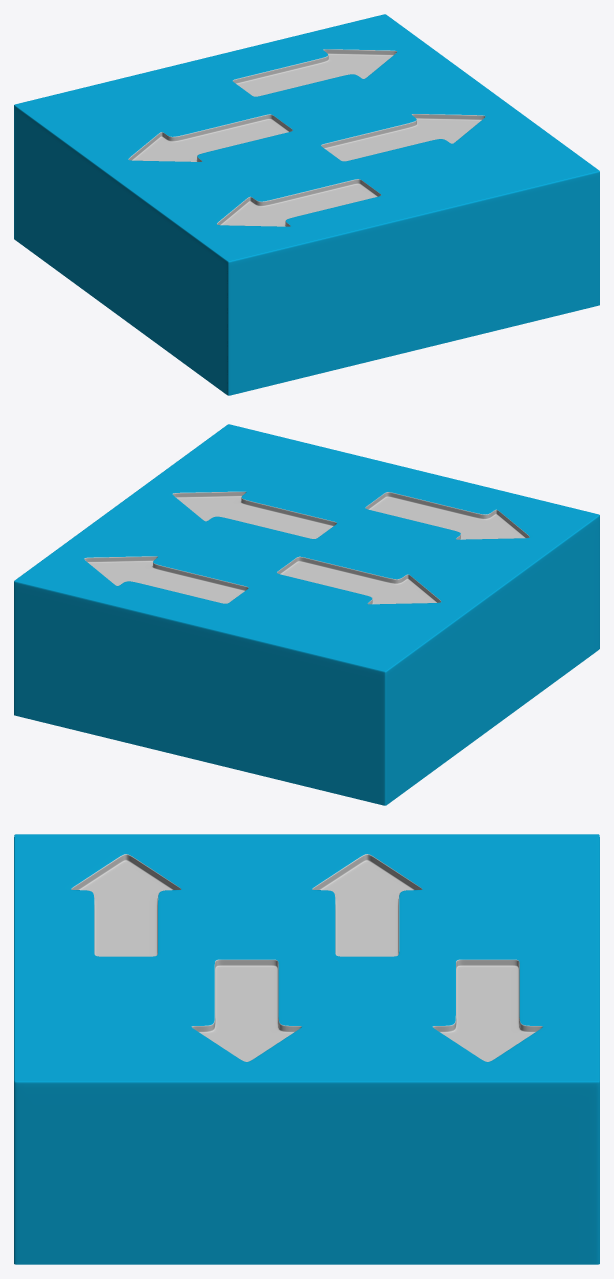
The model's file is RouterIcon2.glb.
3 views of the same model, one above another, from view 1: azimuth 30°, elevation 25°; view 2: azimuth 150°, elevation 25°; view 3: azimuth 270°, elevation 25° (orthographic). The views are drawn at different scales.
Parts seen in each view (by area): view 1: RouterIcon2.001; view 2: RouterIcon2.001; view 3: RouterIcon2.001.
Part boxes in pixels (x1,y1,x2,y2): RouterIcon2.001: (14, 14, 599, 395); RouterIcon2.001: (14, 424, 599, 805); RouterIcon2.001: (14, 834, 599, 1264).
Bounding box in the file's own units: 4.3 × 1.48 × 4.3.
